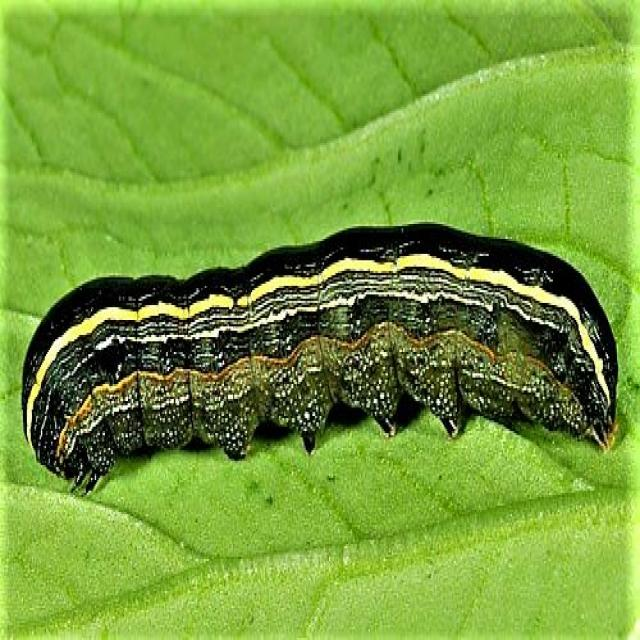Armyworm_damage: (16, 194, 626, 528)
